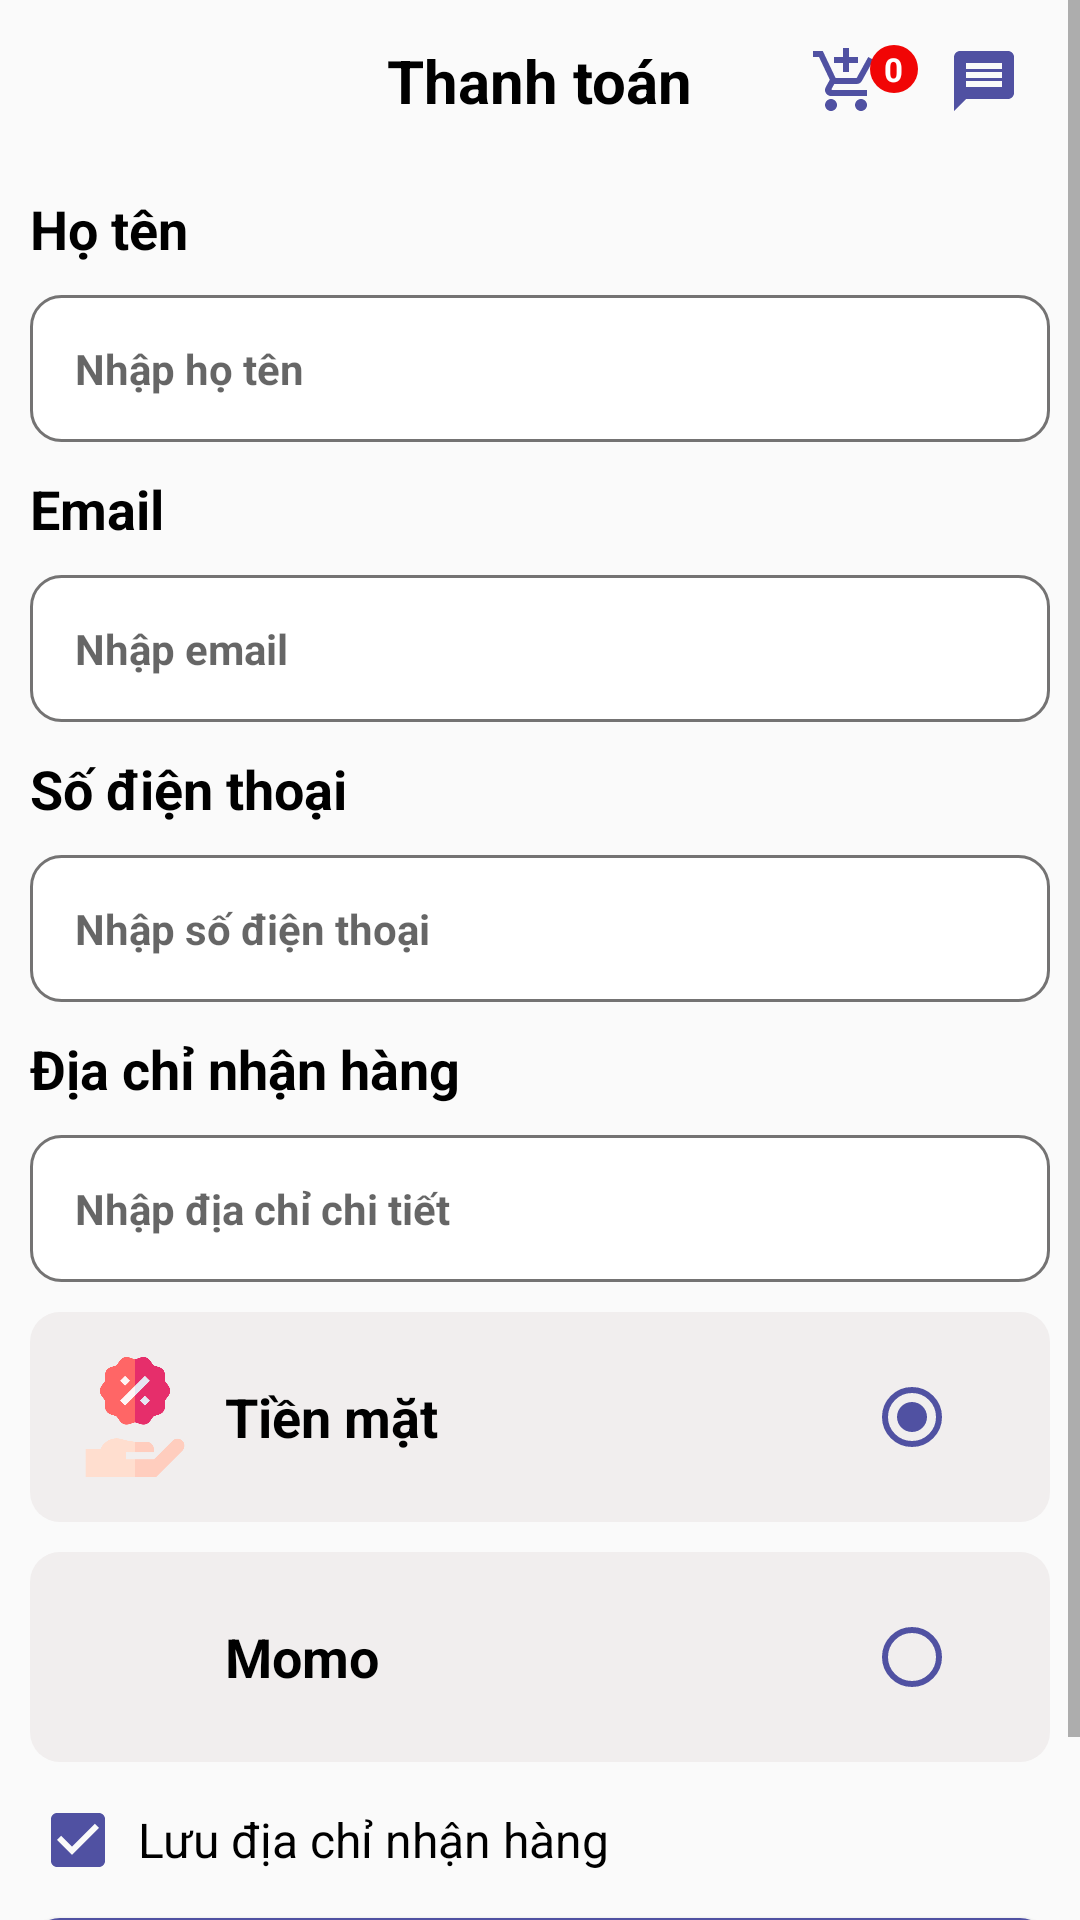

Named icons in this screenshot (1080 x 1920) and their centers, point (x, y):
cart: point (847, 79)
chat: point (984, 81)
discount: point (135, 1417)
